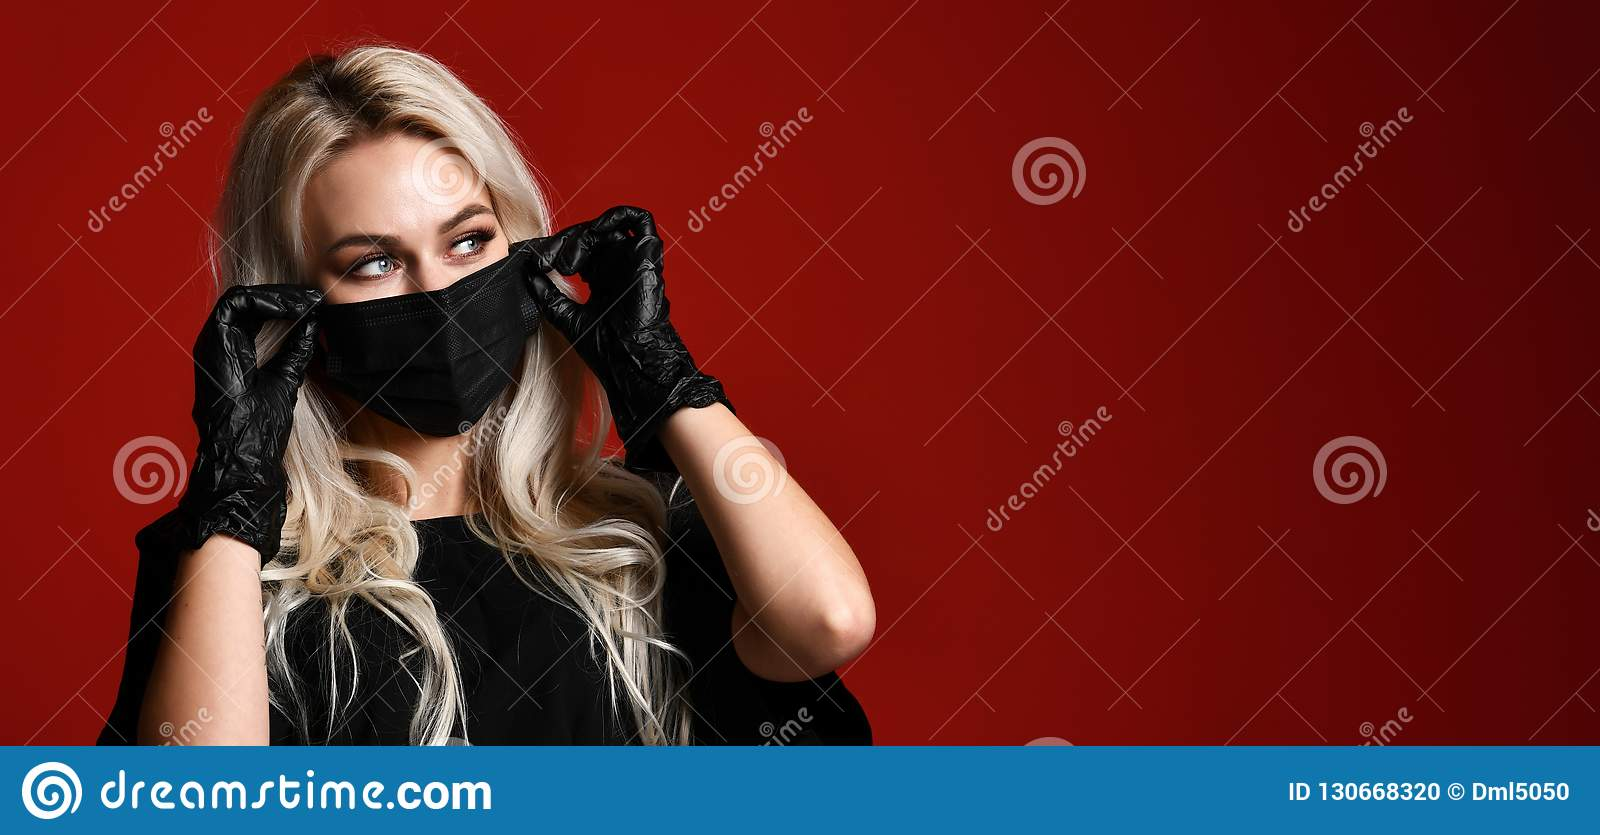mask: (301, 275, 552, 438)
